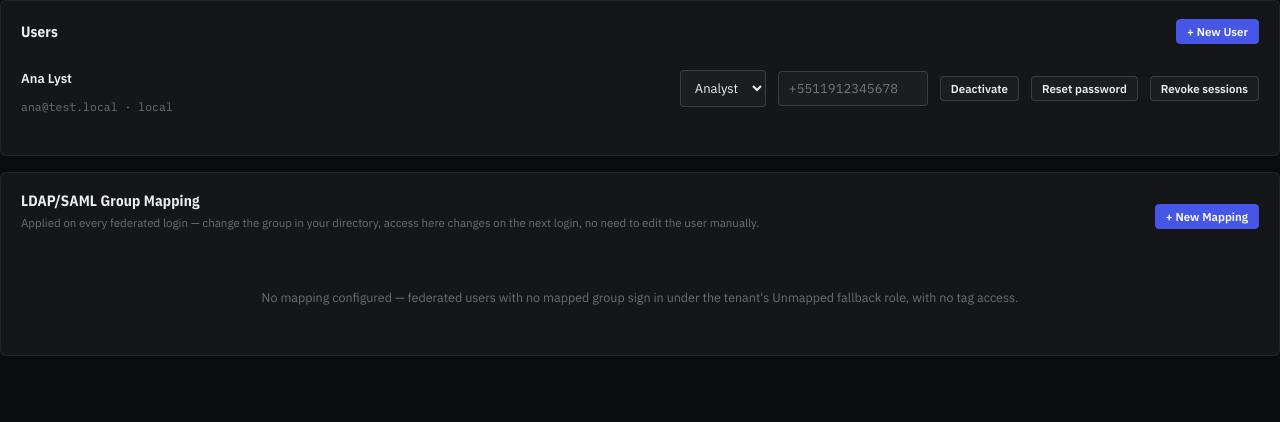
UsersPanel › Revoke sessions requires an inline confirm click, then posts to the revoke-sessions endpoint
Expected: the text "Ana Lyst" is shown, [21,70,72,87]
Click the button "Revoke sessions".
click(1204, 88)  # box [1150,76,1259,101]
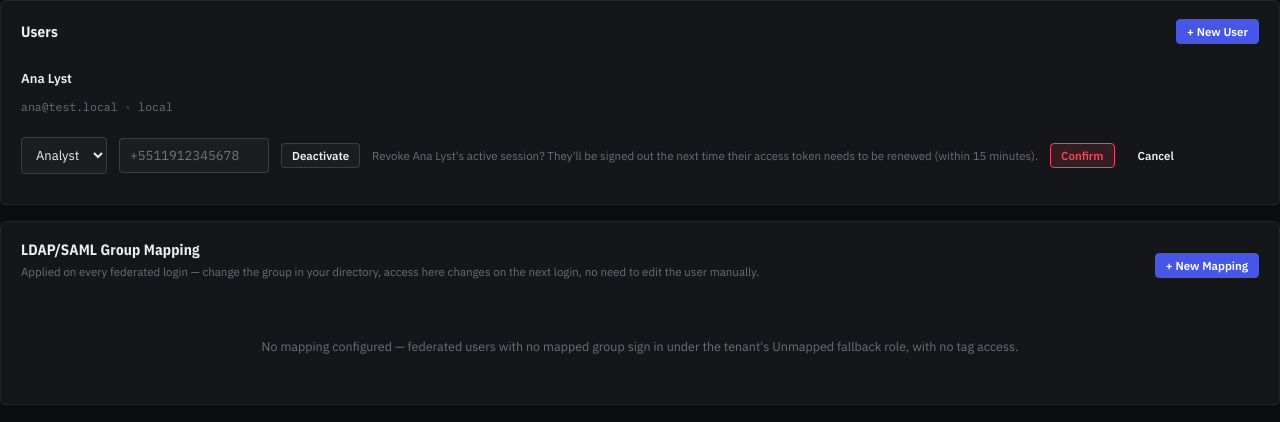
Click the button "Confirm".
click(1082, 156)  # box [1050,143,1115,168]
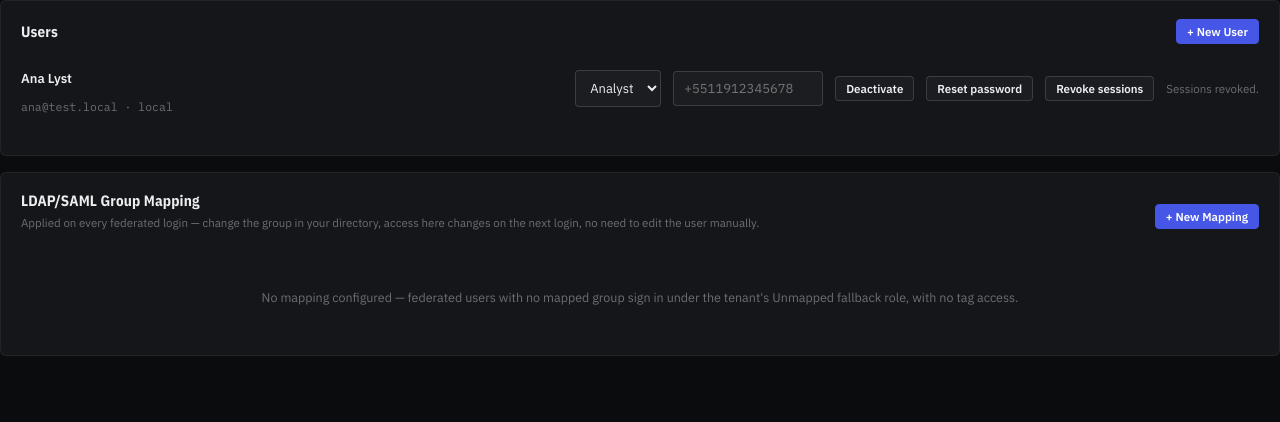
Now the text "Sessions revoked." is shown, box [1166,80,1259,97]
